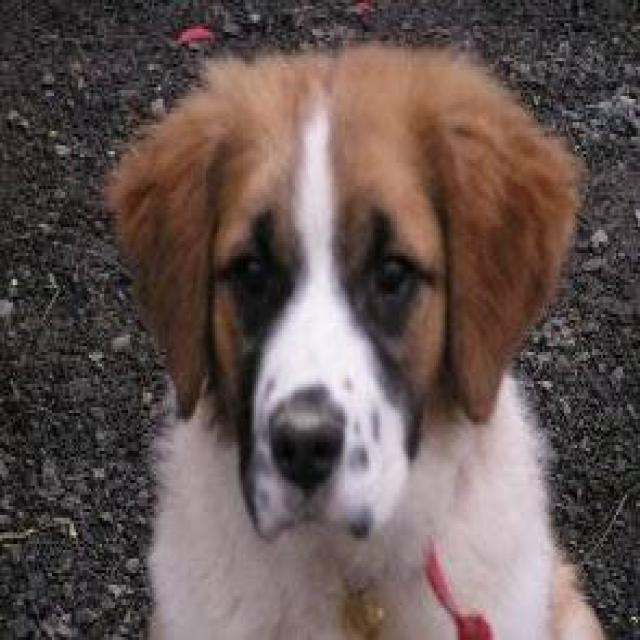dog: (102, 38, 616, 637)
